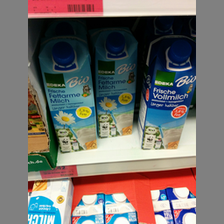milk: (39, 39, 97, 152), (138, 37, 195, 150), (90, 31, 140, 138)
